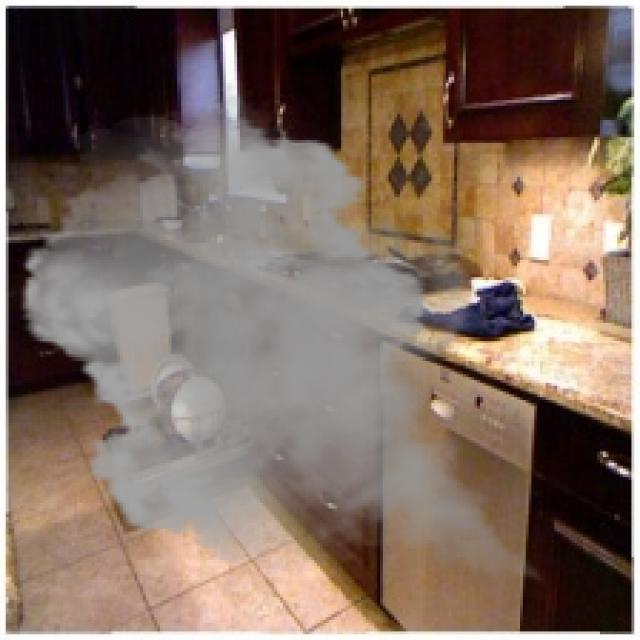Smoke: (6, 80, 572, 594)
